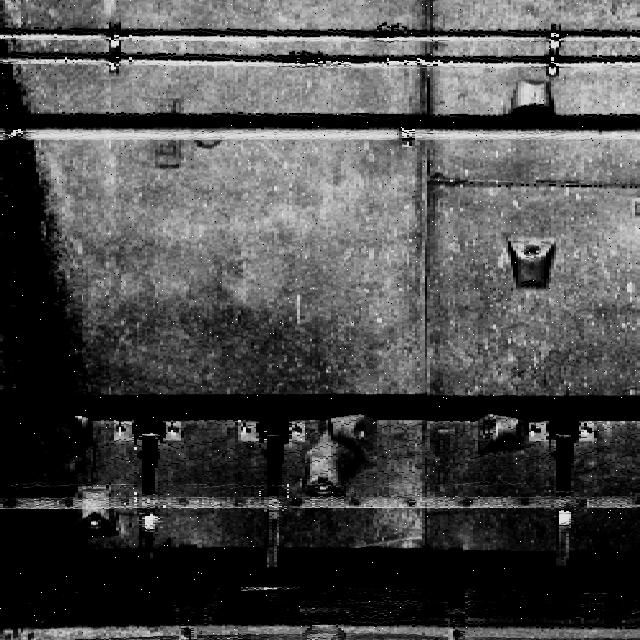leakage: (1, 24, 100, 635)
